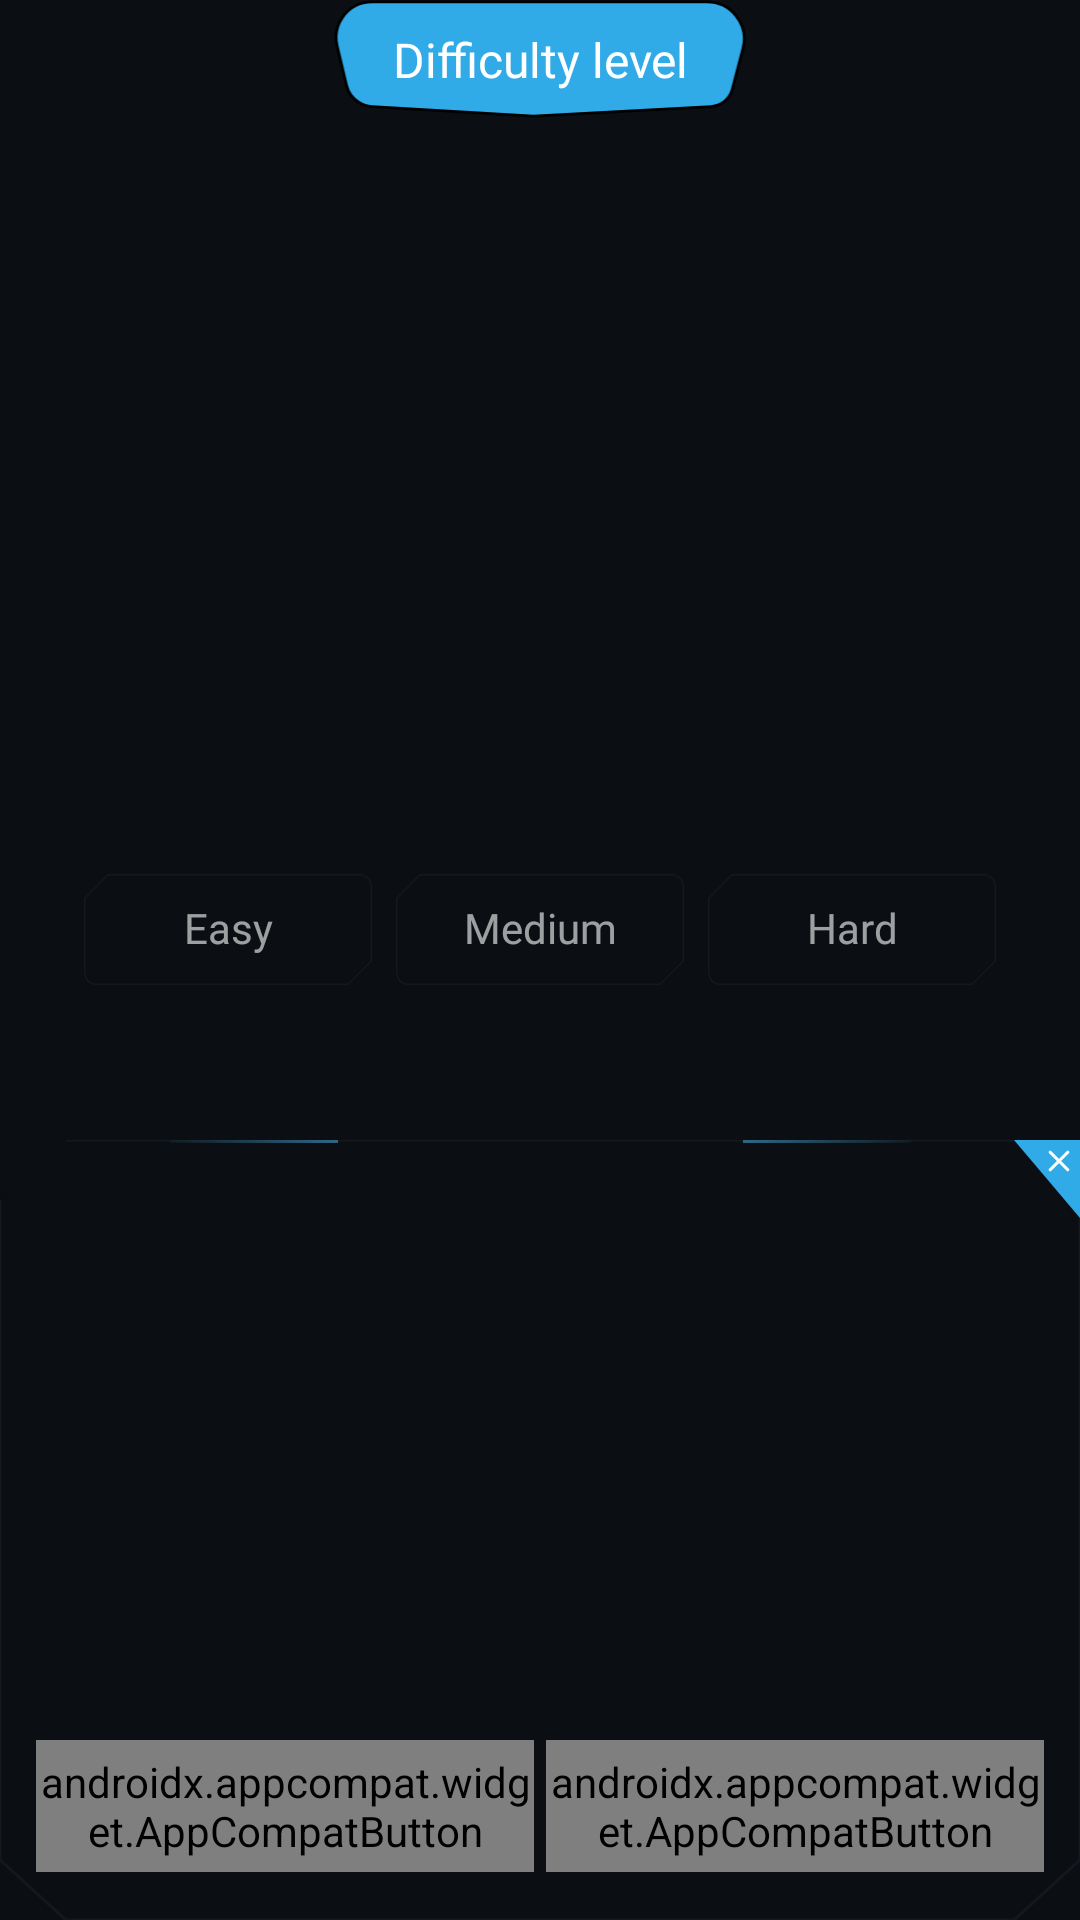

Screen size 1080*1920. Icon name, then its center in pixels as [x,y]:
close icon: [1047,1179]
